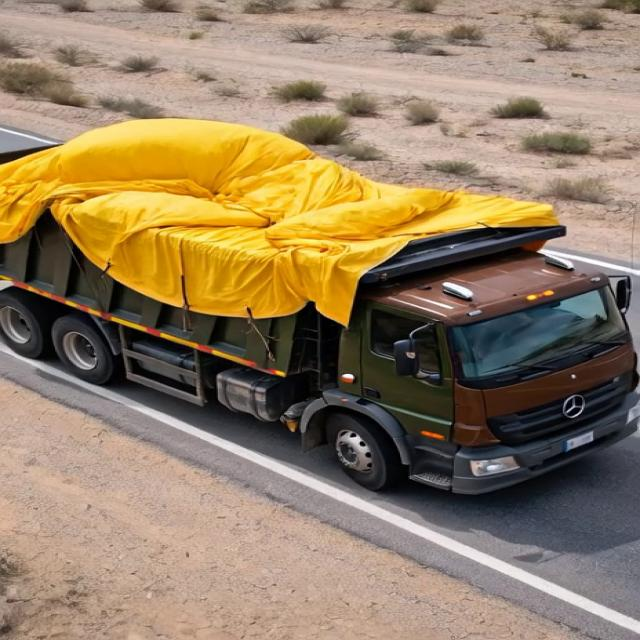trailer: (0, 120, 572, 279)
